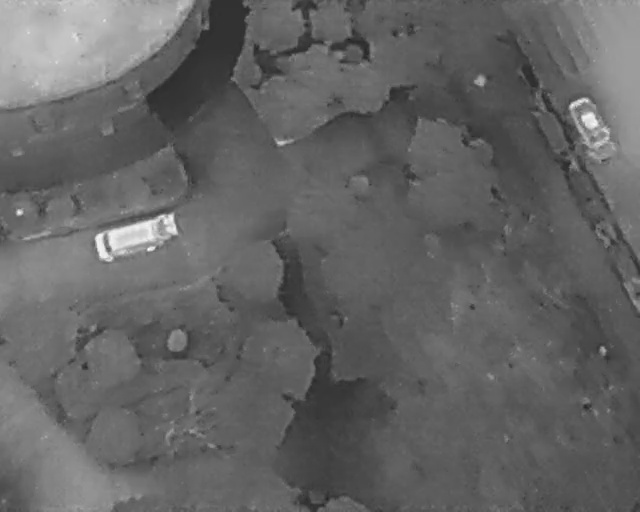Car: (90, 211, 181, 266), (567, 91, 622, 165)
